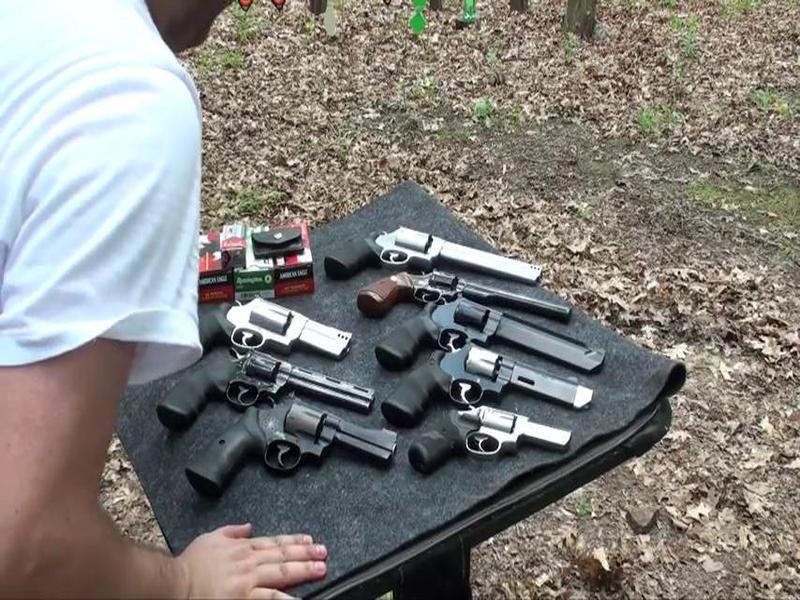Revolver: (313, 202, 554, 309), (180, 394, 411, 505), (360, 294, 595, 384)
